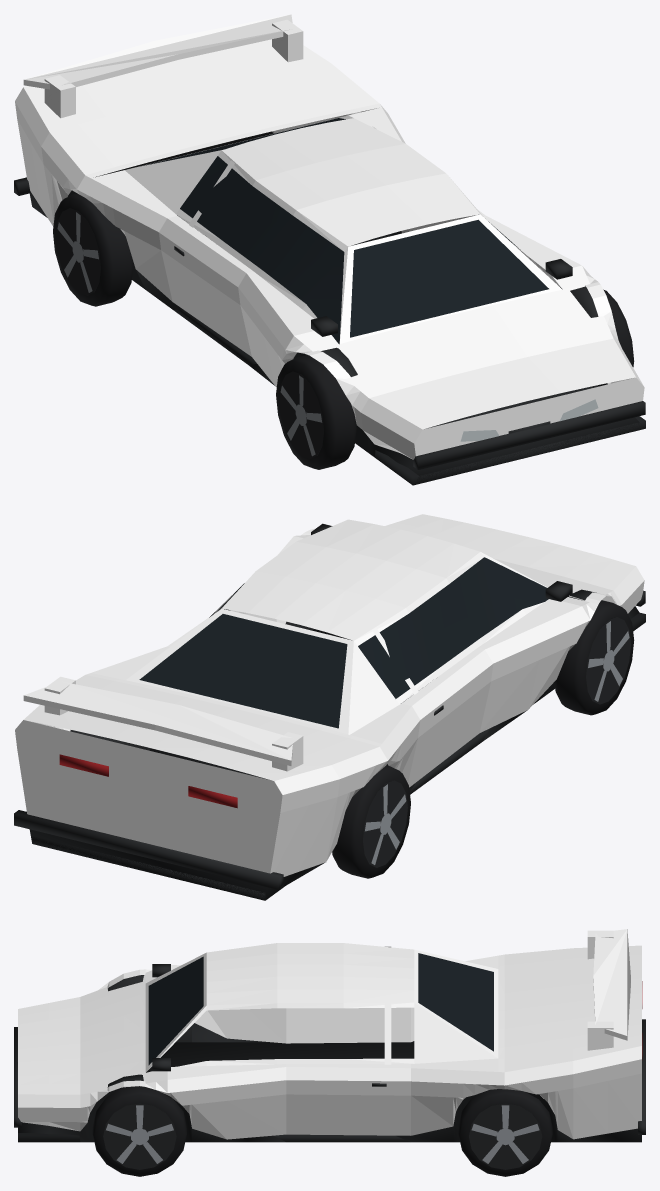
The model's file is taurenza_lasca.glb.
3 renders of one model, top to bottom at view 1: azimuth 30°, elevation 25°; view 2: azimuth 150°, elevation 25°; view 3: azimuth 270°, elevation 25°, orthographic. The views are drawn at different scales.
Parts seen in each view (by area): view 1: Body_Paint, Body_Details, Mount_FrontLeft_Wheel_Details, Mount_RearLeft_Wheel_Details, Mount_FrontRight_Wheel_Details; view 2: Body_Paint, Body_Details, Mount_FrontLeft_Wheel_Details, Mount_RearLeft_Wheel_Details; view 3: Body_Paint, Body_Details, Mount_FrontRight_Wheel_Details, Mount_RearRight_Wheel_Details.
Boxes of the visible parts, x1,y1,x2,y2 form: Body_Paint: [15, 14, 644, 459]; Body_Details: [14, 118, 645, 485]; Mount_FrontLeft_Wheel_Details: [276, 355, 356, 469]; Mount_RearLeft_Wheel_Details: [53, 193, 133, 306]; Mount_FrontRight_Wheel_Details: [603, 289, 634, 367]; Body_Paint: [15, 514, 644, 876]; Body_Details: [14, 523, 645, 900]; Mount_FrontLeft_Wheel_Details: [554, 600, 634, 715]; Mount_RearLeft_Wheel_Details: [332, 765, 410, 878]; Body_Paint: [18, 929, 641, 1139]; Body_Details: [14, 953, 645, 1142]; Mount_FrontRight_Wheel_Details: [92, 1086, 186, 1176]; Mount_RearRight_Wheel_Details: [458, 1089, 552, 1176].
Size of the model in its own units: 2.03 by 1.12 by 4.36.
Materials: 2 (1 with a texture image).
